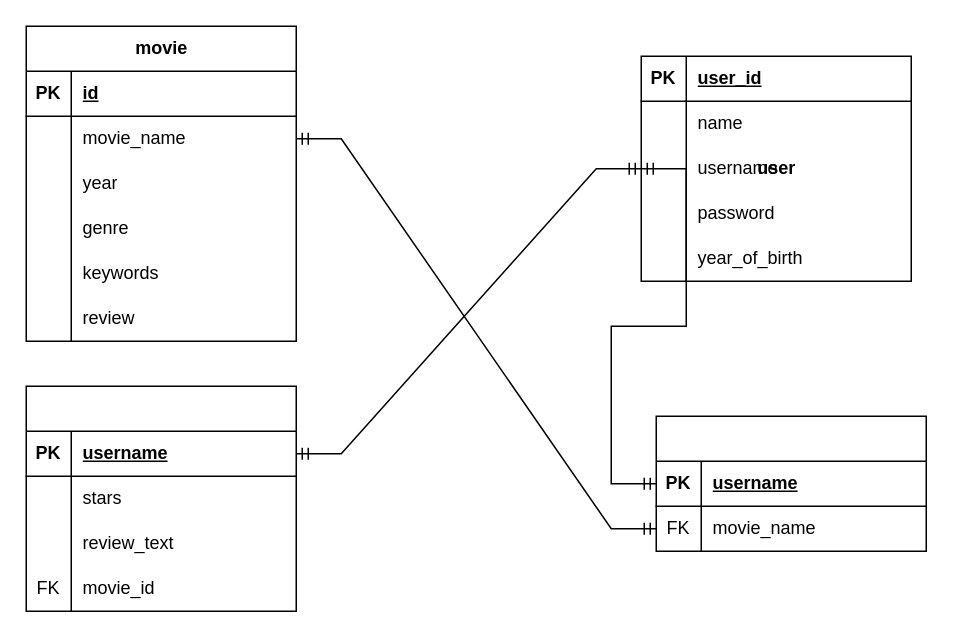
The diagram is 953 pixels wide and 638 high, and some of its shapes have lost their labels. Each missing label, with the box of its shape:
favorite: (655, 415, 926, 551)
movie_reviews: (25, 385, 296, 611)
